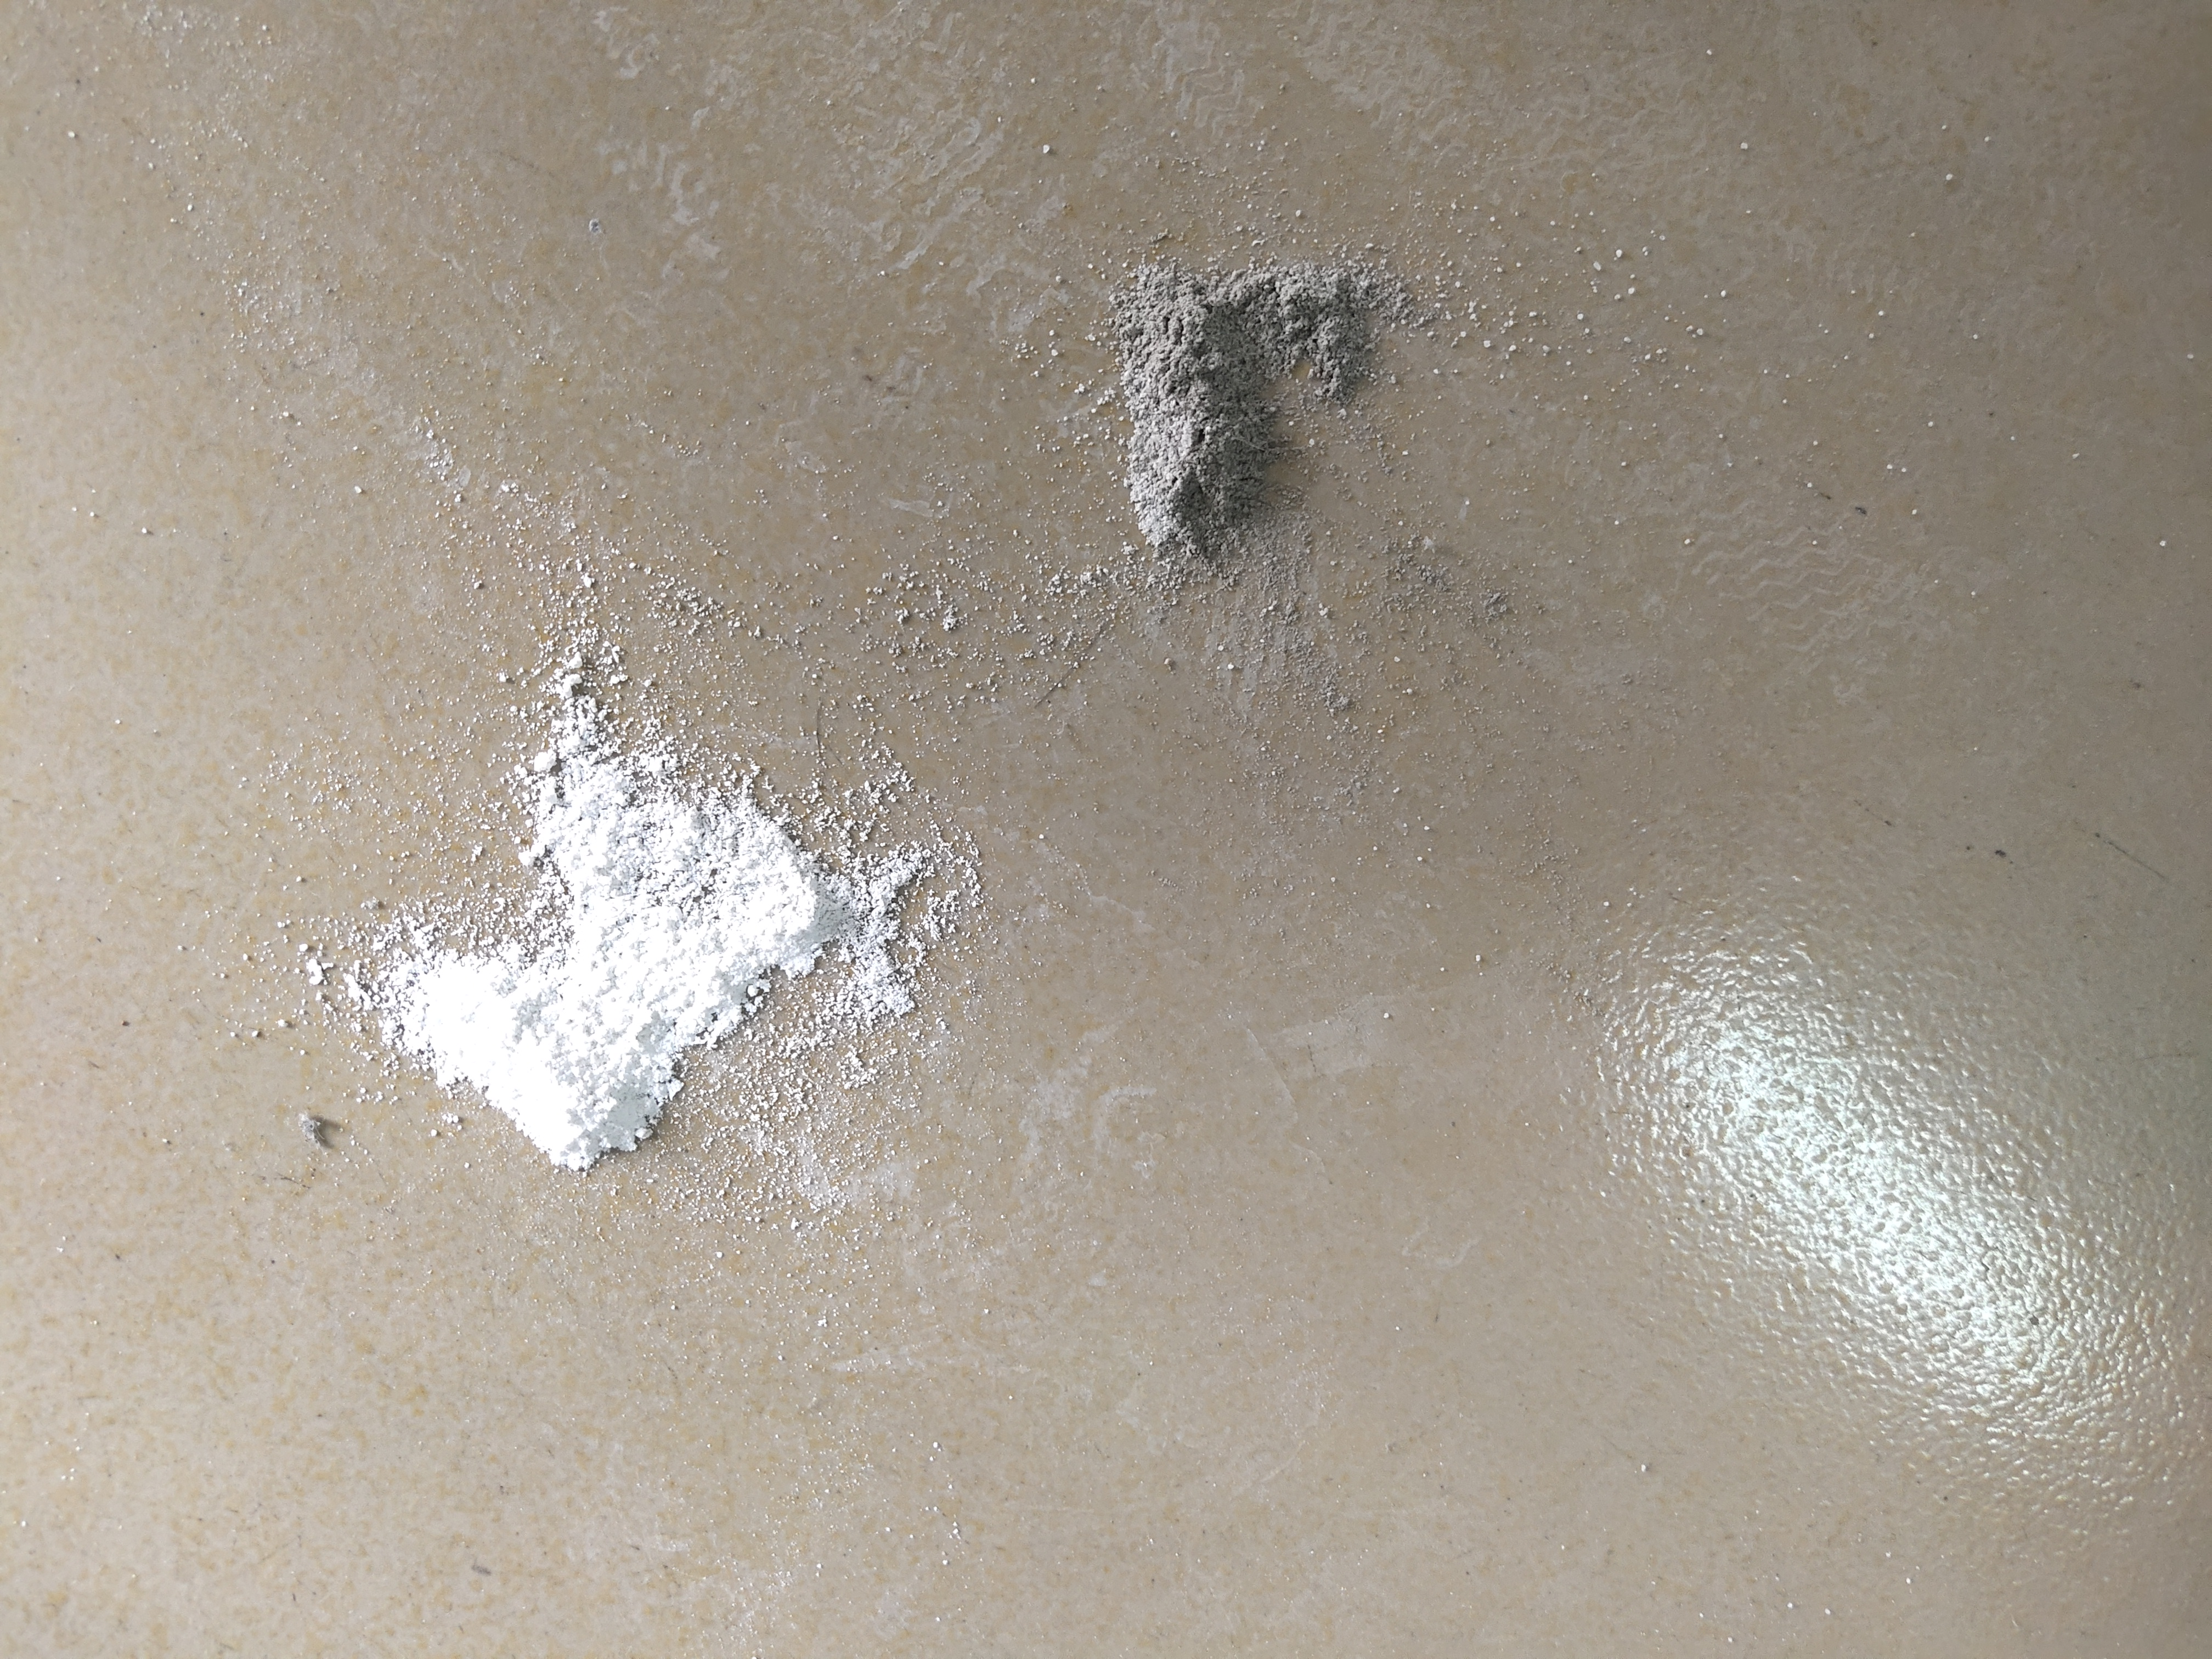ash pile: (279, 558, 982, 1178), (1104, 253, 1420, 570)
reflection: (1602, 953, 2101, 1427)
